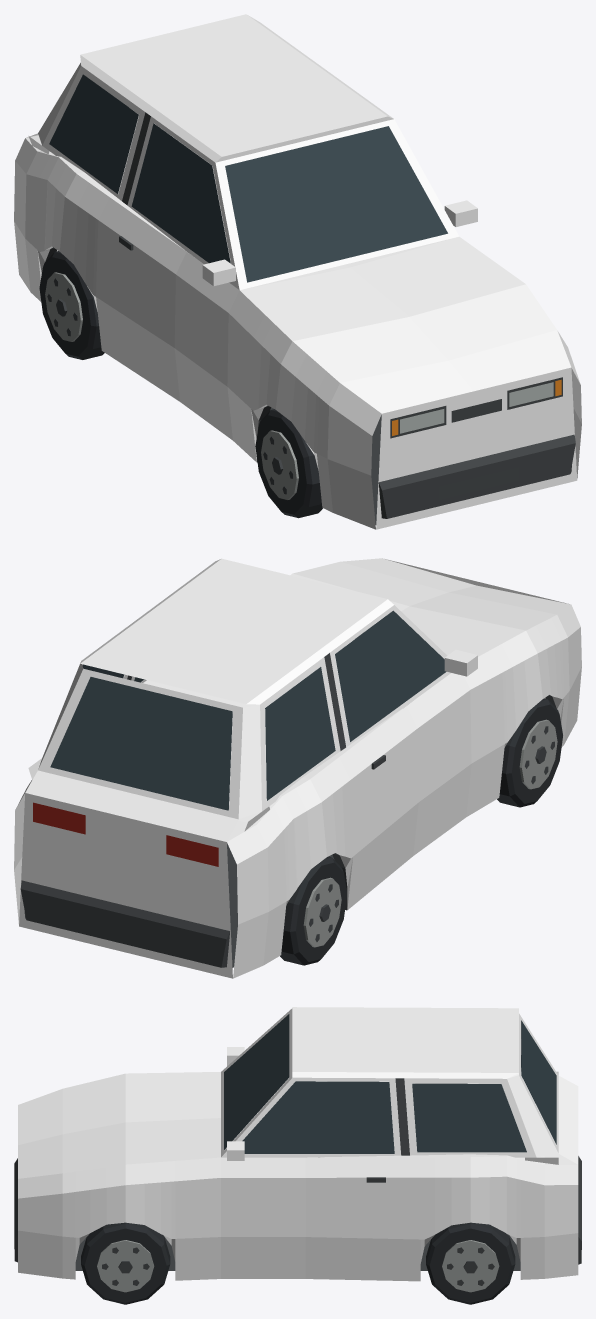
Rendered from lindauer_nebel.glb.
The picture shows the model from 3 angles, top to bottom: view 1: azimuth 30°, elevation 25°; view 2: azimuth 150°, elevation 25°; view 3: azimuth 270°, elevation 25°; orthographic projection. The views are drawn at different scales.
Visible parts, largest first — view 1: lindauer_nebel; view 2: lindauer_nebel; view 3: lindauer_nebel.
Boxes of the visible parts, x1=… form: lindauer_nebel: x1=14, y1=14, x2=581, y2=529; lindauer_nebel: x1=14, y1=558, x2=581, y2=978; lindauer_nebel: x1=14, y1=1007, x2=581, y2=1304.
Bounding box in the file's own units: 1.67 × 1.62 × 3.85.
8 materials, 1 textured.
